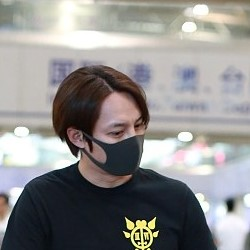mask: (57, 121, 151, 181)
